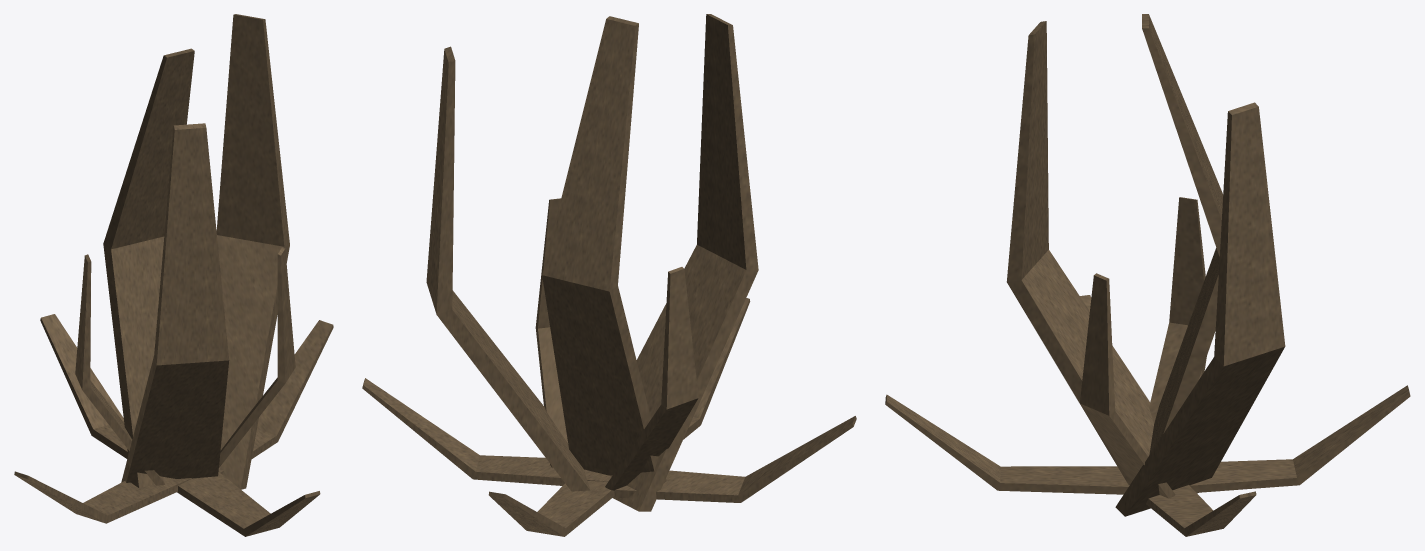
The model's file is Grama_Desertica.fbx.
The picture shows the model from 3 angles, left to right: view 1: azimuth 30°, elevation 25°; view 2: azimuth 150°, elevation 25°; view 3: azimuth 270°, elevation 25°; orthographic projection. The views are drawn at different scales.
Parts seen in each view (by area): view 1: Gramado; view 2: Gramado; view 3: Gramado.
Boxes of the visible parts, x1,y1,x2,y2 form: Gramado: [14, 14, 333, 536]; Gramado: [362, 14, 856, 536]; Gramado: [885, 14, 1410, 536].
Bounding box in the file's own units: 47.51 × 51.39 × 52.46.
Materials: 1 (1 with a texture image).
